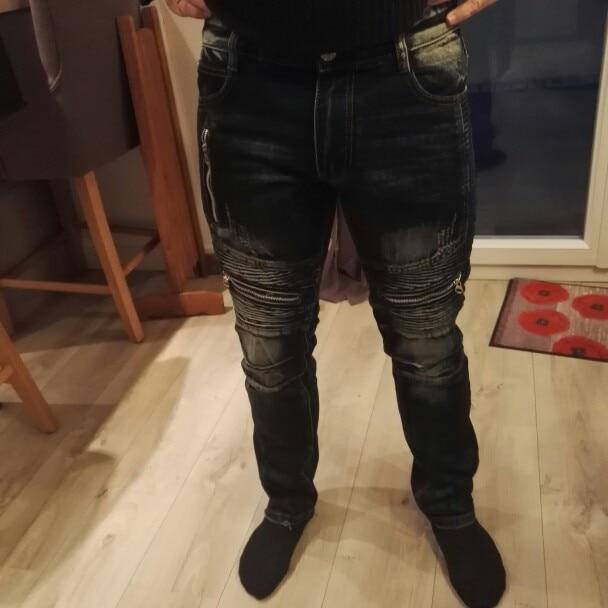jeans: (186, 39, 505, 529)
